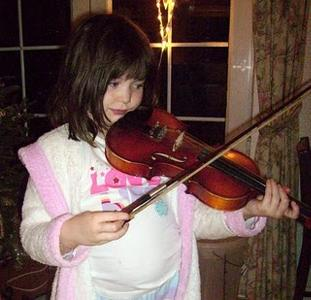person: (19, 13, 301, 300)
